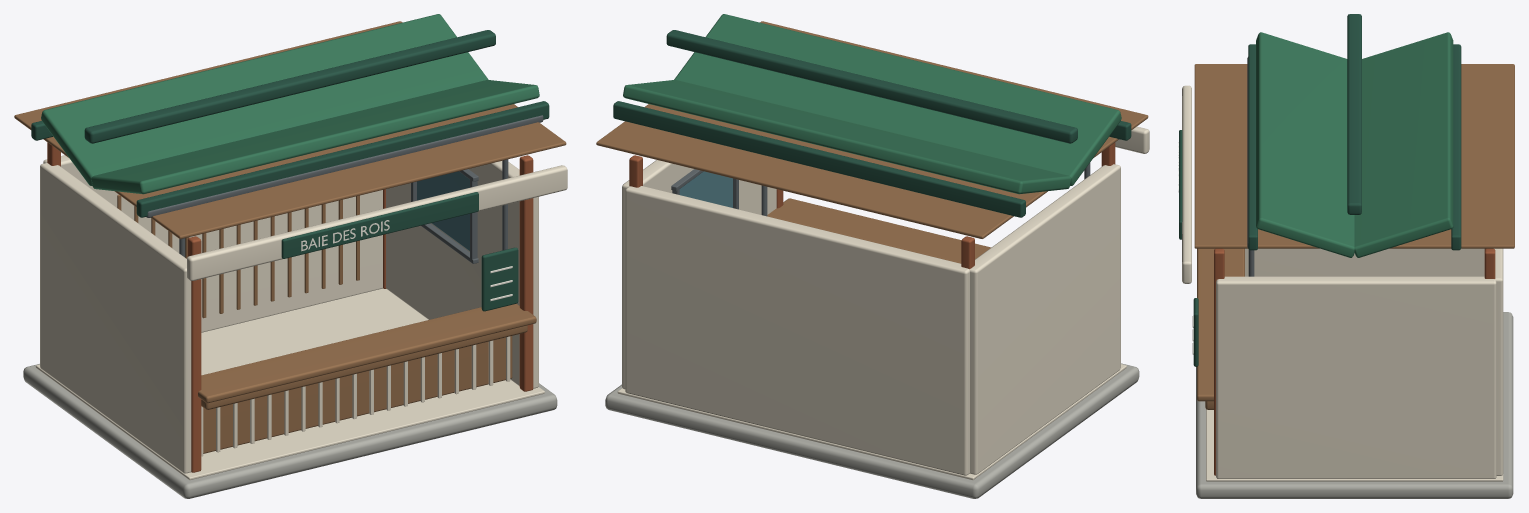
Rendered from kiosque_baie_des_rois.glb.
3 views of the same model, side by side, from view 1: azimuth 30°, elevation 25°; view 2: azimuth 150°, elevation 25°; view 3: azimuth 270°, elevation 25° (orthographic). The views are drawn at different scales.
Visible parts, largest first — view 1: Retour lateral, Pan toiture deux pentes.001, Sol interieur, Sous face toiture, Pan toiture deux pentes, Mur arriere, Retour lateral.001, Dalle beton, Facade comptoir, Plan de travail, Faitage toiture, Bandeau facade (+8 smaller); view 2: Mur arriere, Retour lateral, Pan toiture deux pentes, Sous face toiture, Pan toiture deux pentes.001, Dalle beton, Bandeau rive toiture.001, Faitage toiture, Plan de travail, Retour lateral.001, Sol interieur, Vitrage lateral.001 (+1 smaller); view 3: Retour lateral.001, Sous face toiture, Pan toiture deux pentes.001, Pan toiture deux pentes, Dalle beton, Retour lateral, Plan de travail, Faitage toiture, Bandeau facade, Bandeau rive toiture.001, Mur arriere, Bandeau rive toiture (+5 smaller).
Boxes of the visible parts, left/top/right/bottom form: Retour lateral: left=40, top=163, right=191, bottom=473; Pan toiture deux pentes.001: left=41, top=14, right=488, bottom=185; Sol interieur: left=35, top=288, right=544, bottom=479; Sous face toiture: left=14, top=21, right=566, bottom=239; Pan toiture deux pentes: left=91, top=79, right=539, bottom=194; Mur arriere: left=43, top=155, right=382, bottom=332; Retour lateral.001: left=386, top=161, right=538, bottom=388; Dalle beton: left=23, top=364, right=557, bottom=498; Facade comptoir: left=203, top=336, right=512, bottom=453; Plan de travail: left=198, top=303, right=536, bottom=403; Faitage toiture: left=84, top=30, right=495, bottom=143; Bandeau facade: left=187, top=165, right=567, bottom=280; Mur arriere: left=625, top=186, right=969, bottom=475; Retour lateral: left=969, top=164, right=1120, bottom=474; Pan toiture deux pentes: left=674, top=14, right=1121, bottom=185; Sous face toiture: left=596, top=21, right=1148, bottom=238; Pan toiture deux pentes.001: left=623, top=80, right=1070, bottom=194; Dalle beton: left=605, top=363, right=1139, bottom=498; Bandeau rive toiture.001: left=613, top=101, right=1025, bottom=217; Faitage toiture: left=666, top=30, right=1077, bottom=143; Plan de travail: left=767, top=198, right=990, bottom=263; Retour lateral.001: left=622, top=160, right=776, bottom=389; Sol interieur: left=617, top=364, right=1126, bottom=480; Vitrage lateral.001: left=679, top=171, right=732, bottom=207; Retour lateral.001: left=1216, top=276, right=1496, bottom=478; Sous face toiture: left=1194, top=64, right=1514, bottom=248; Pan toiture deux pentes.001: left=1354, top=32, right=1453, bottom=257; Pan toiture deux pentes: left=1256, top=32, right=1354, bottom=257; Dalle beton: left=1196, top=312, right=1513, bottom=498; Retour lateral: left=1245, top=248, right=1484, bottom=276; Plan de travail: left=1197, top=248, right=1244, bottom=401; Faitage toiture: left=1347, top=14, right=1361, bottom=214; Bandeau facade: left=1182, top=85, right=1191, bottom=283; Bandeau rive toiture.001: left=1451, top=44, right=1461, bottom=250; Mur arriere: left=1494, top=248, right=1503, bottom=475; Bandeau rive toiture: left=1248, top=44, right=1257, bottom=250.
Size of the model in its own units: 5.52 by 4.07 by 4.08.
